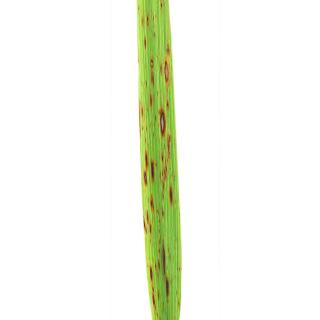bercak-Cokelat: (138, 193, 156, 236), (138, 15, 159, 48), (138, 148, 156, 186), (144, 261, 156, 311), (144, 58, 158, 88), (164, 58, 178, 86), (165, 180, 178, 209), (158, 238, 168, 275), (159, 152, 170, 181), (157, 107, 168, 134), (164, 278, 171, 302)
